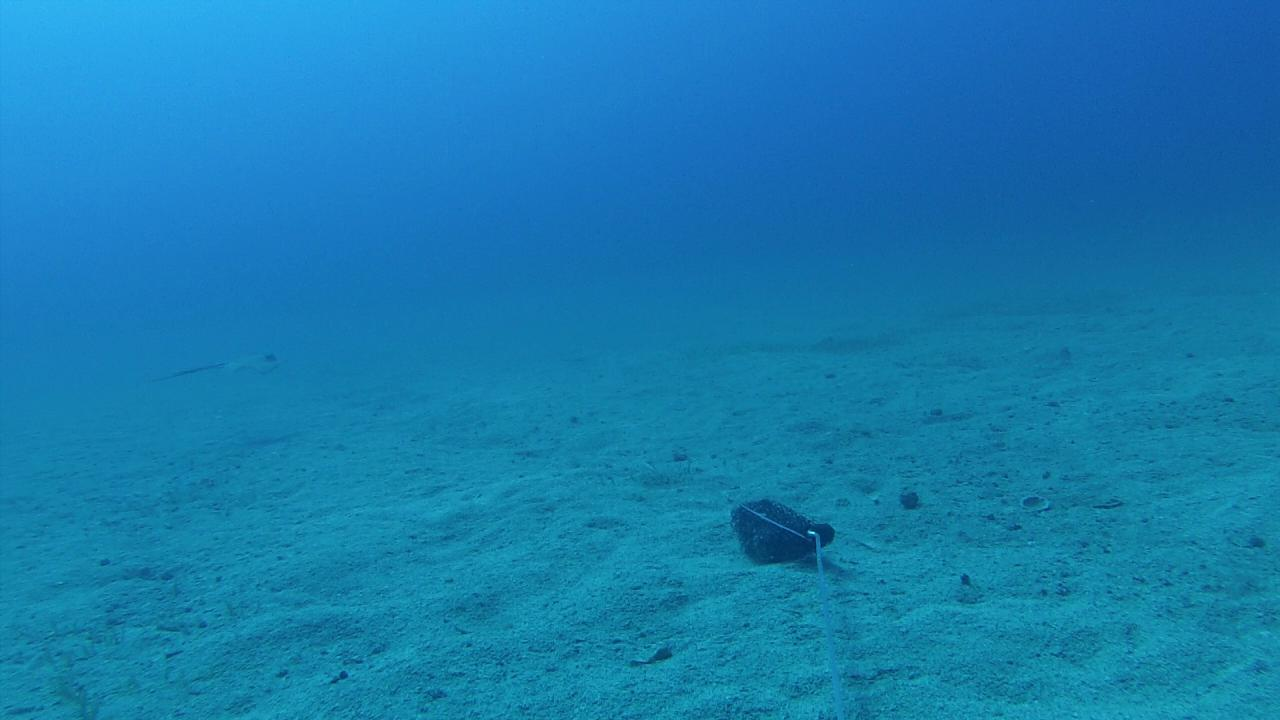dasyatis: (152, 348, 284, 380)
